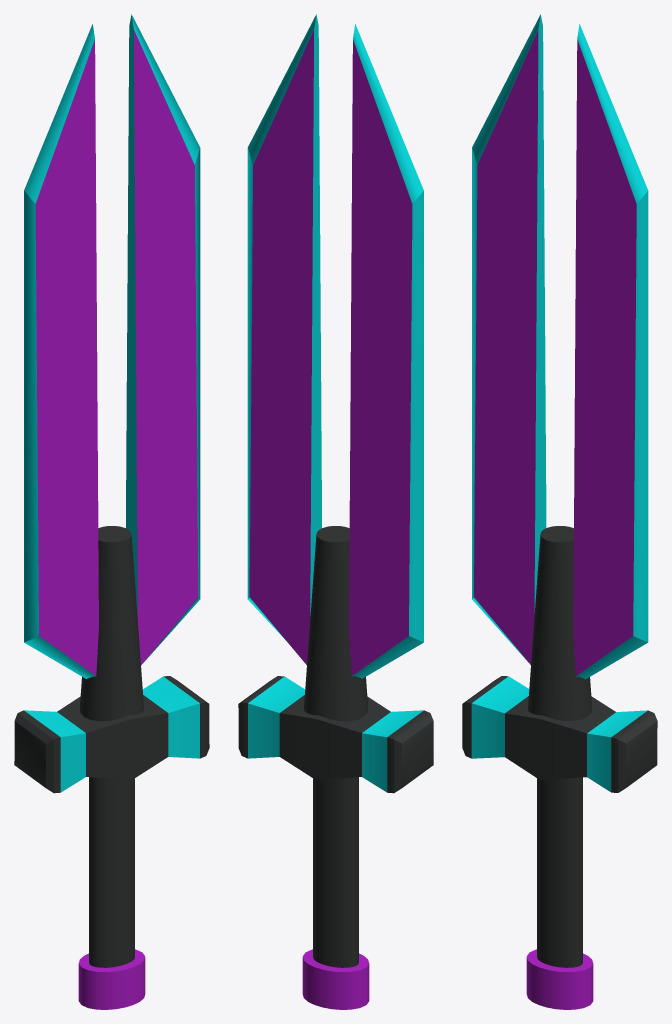
The model's file is weapon_electricSword_model.fbx.
3 views of the same model, side by side, from view 1: azimuth 30°, elevation 25°; view 2: azimuth 150°, elevation 25°; view 3: azimuth 330°, elevation 25° (orthographic).
Visible parts, largest first — view 1: Electrick_Sword; view 2: Electrick_Sword; view 3: Electrick_Sword.
Part boxes in pixels (box(x1,y1,x2,y2)): Electrick_Sword: box(14, 14, 209, 1009); Electrick_Sword: box(238, 14, 433, 1009); Electrick_Sword: box(462, 14, 657, 1009).
Bounding box in the file's own units: 8.66 × 45.99 × 3.46.
